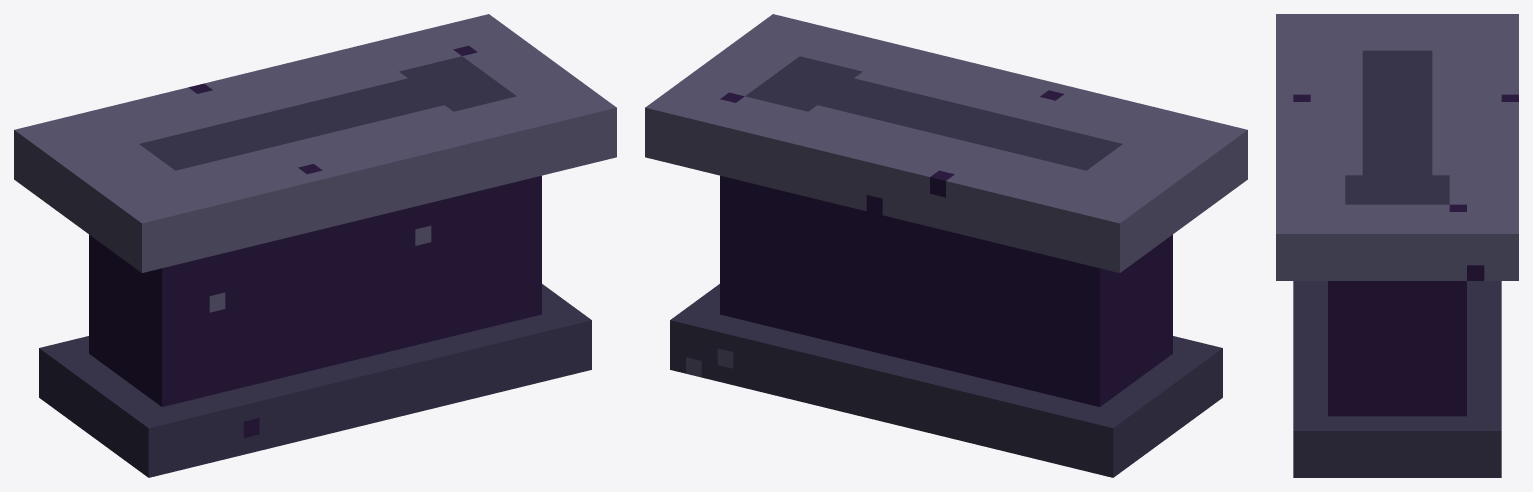
Rendered from sarcophagus.obj.
3 renders of one model, left to right at view 1: azimuth 30°, elevation 25°; view 2: azimuth 150°, elevation 25°; view 3: azimuth 270°, elevation 25°, orthographic. The views are drawn at different scales.
Visible parts, largest first — view 1: sarcophagus; view 2: sarcophagus; view 3: sarcophagus.
Part boxes in pixels (x1,y1,x2,y2): sarcophagus: (14, 14, 616, 477); sarcophagus: (645, 14, 1247, 477); sarcophagus: (1276, 14, 1518, 477).
Bounding box in the file's own units: 1.88 × 1 × 0.875.
Materials: 1 (1 with a texture image).
